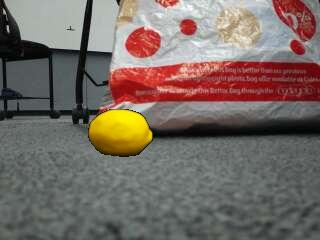lemon: (89, 110, 151, 157)
